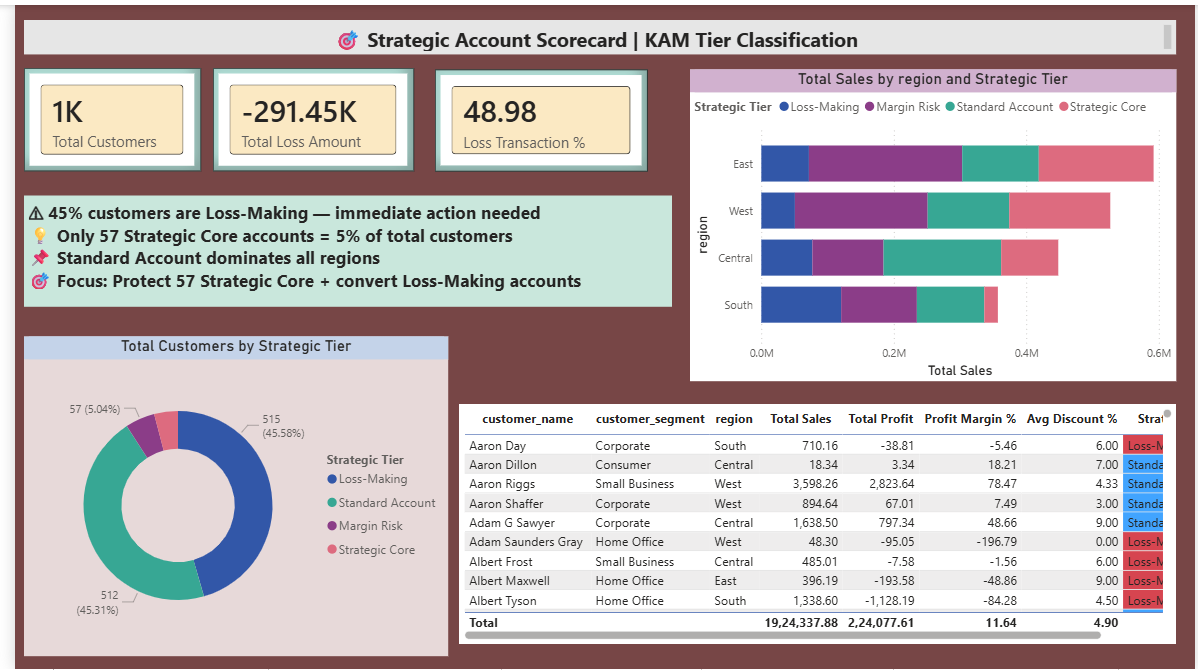

Layout of this report page (visuals, bound fields, positions):
{"tool":"powerbi","page":{"name":" Strategic Account Scorecard","canvas":[1280,720],"ordinal":5},"visuals":[{"type":"cardVisual","fields":{"Data":["_Measures.Total Customers"]},"box":[9.8,68.3,191.9,112.2],"z":0},{"type":"cardVisual","fields":{"Data":["_Measures.Total Loss Amount"]},"box":[214.7,68.3,218,112.2],"z":1000},{"type":"cardVisual","fields":{"Data":["_Measures.Loss Transaction %"]},"box":[455.4,69.9,231,110.6],"z":2000},{"type":"donutChart","fields":{"Category":["SuperStoreUs_data.Strategic Tier"],"Y":["_Measures.Total Customers"]},"box":[9.8,359.5,460.3,346.5],"z":3000},{"type":"barChart","fields":{"Category":["SuperStoreUs_data.region"],"Y":["_Measures.Total Sales"],"Series":["SuperStoreUs_data.Strategic Tier"]},"box":[731.9,69.9,527,338.3],"z":4000},{"type":"tableEx","fields":{"Values":["SuperStoreUs_data.customer_name","SuperStoreUs_data.customer_segment","SuperStoreUs_data.region","_Measures.Total Sales","_Measures.Total Profit","_Measures.Profit Margin %","_Measures.Avg Discount %","SuperStoreUs_data.Strategic Tier"]},"box":[481.5,432.7,777.5,260.2],"z":5000},{"type":"textbox","box":[9.8,206.6,702.7,120.4],"z":6000},{"type":"textbox","box":[9.8,16.3,1249.2,37.4],"z":6001}]}

Visuals, with their boxes in screenshot pixels (x1, y1, x2, y2), scaled from the page's 1280x720 canvas onto the 1198x670 screenshot:
cardVisual - _Measures.Total Customers: rect(9, 64, 189, 168)
cardVisual - _Measures.Total Loss Amount: rect(201, 64, 405, 168)
cardVisual - _Measures.Loss Transaction %: rect(426, 65, 642, 168)
donutChart - SuperStoreUs_data.Strategic Tier x _Measures.Total Customers: rect(9, 335, 440, 657)
barChart - SuperStoreUs_data.region x _Measures.Total Sales: rect(685, 65, 1178, 380)
tableEx - SuperStoreUs_data.customer_name x SuperStoreUs_data.customer_segment: rect(451, 403, 1178, 645)
textbox: rect(9, 192, 667, 304)
textbox: rect(9, 15, 1178, 50)
